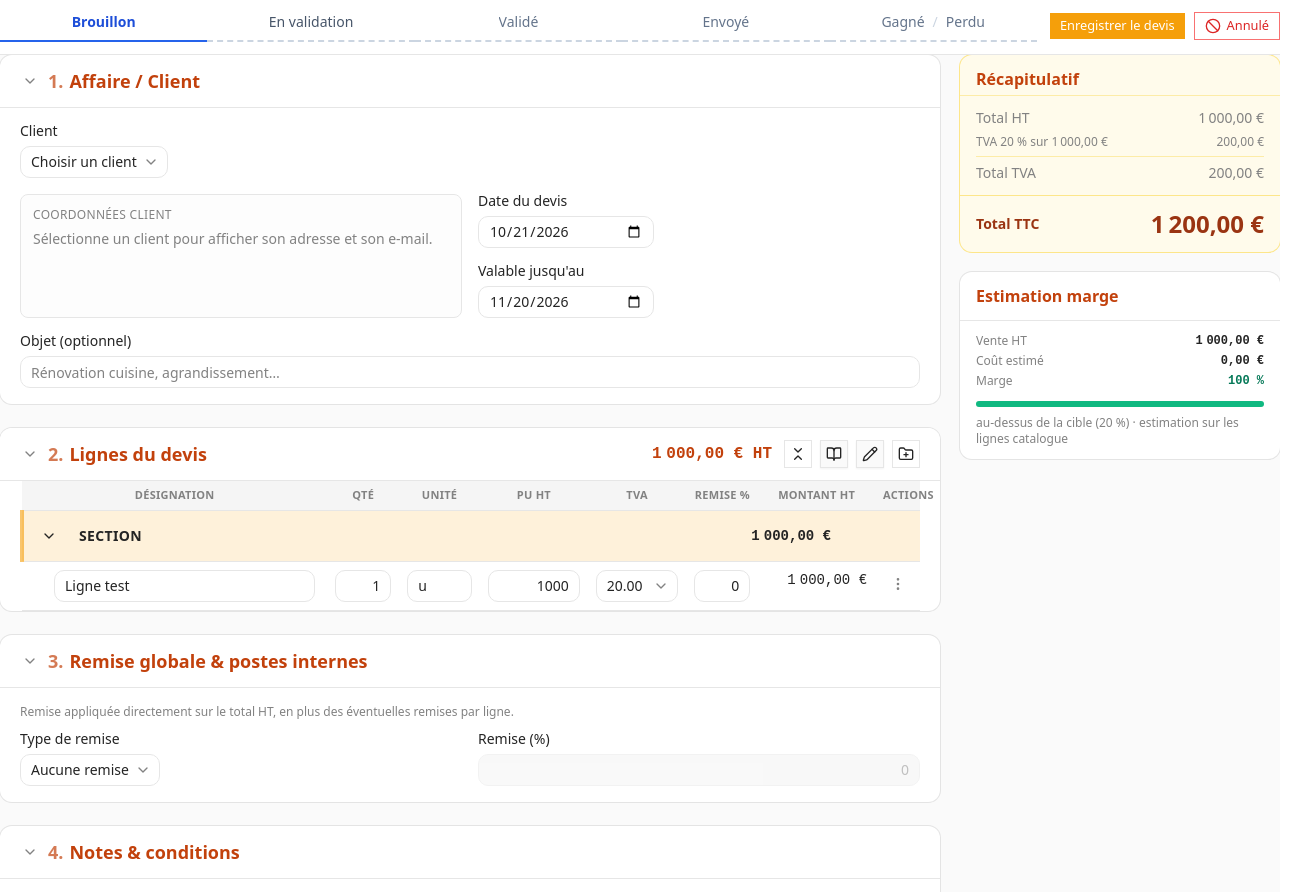
Test case: DevisEditor — boutons composants gatés sur import DPGF › affiche les 4 boutons composants dès qu’une ligne provient d’un import DPGF
The image size is (1292, 892).
Click the heading titled "Actions de la ligne" at x=898, y=584, box [890, 576, 906, 592]
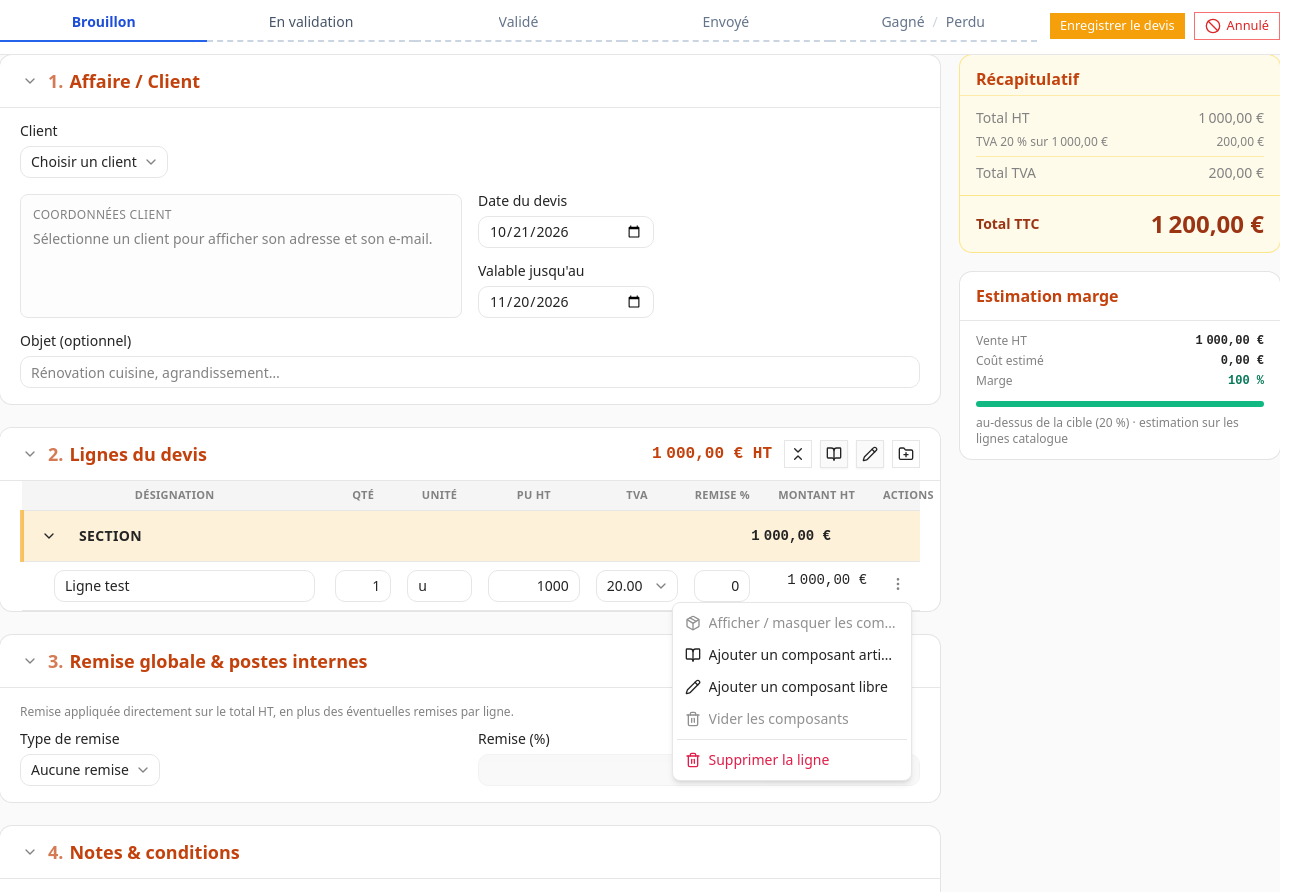
Now the button labelled "Afficher / masquer les composants" is shown, box [676, 606, 906, 638]
Now the button labelled "Ajouter un composant article catalogue" is shown, box [676, 638, 906, 670]
Now the button labelled "Ajouter un composant libre" is shown, box [676, 670, 906, 702]
